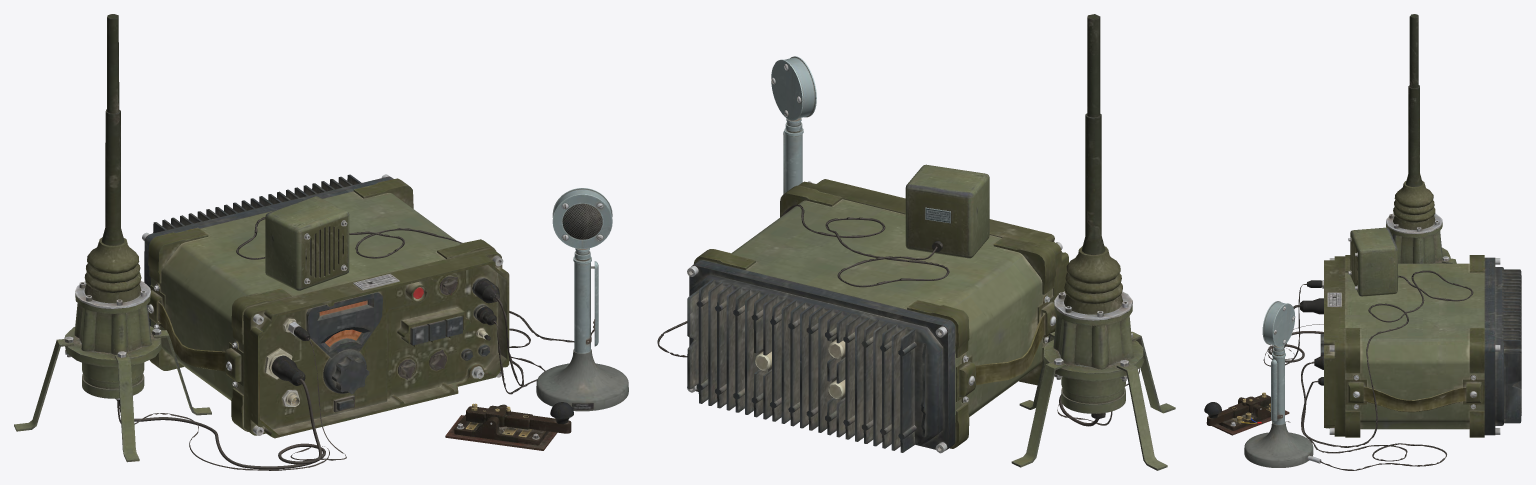
Rendered from dispatch-radio.glb.
The picture shows the model from 3 angles, left to right: view 1: azimuth 30°, elevation 25°; view 2: azimuth 150°, elevation 25°; view 3: azimuth 270°, elevation 25°; orthographic projection. The views are drawn at different scales.
Parts seen in each view (by area): view 1: vintage_radio_transceiver, vintage_radio_transceiver_cable; view 2: vintage_radio_transceiver, vintage_radio_transceiver_cable; view 3: vintage_radio_transceiver, vintage_radio_transceiver_cable.
Part boxes in pixels (left/top/right/bottom): vintage_radio_transceiver: left=142, top=174, right=509, bottom=438; vintage_radio_transceiver_cable: left=14, top=14, right=628, bottom=470; vintage_radio_transceiver: left=687, top=179, right=1068, bottom=453; vintage_radio_transceiver_cable: left=657, top=14, right=1175, bottom=470; vintage_radio_transceiver: left=1320, top=255, right=1521, bottom=437; vintage_radio_transceiver_cable: left=1204, top=14, right=1473, bottom=470.
Size of the model in its own units: 0.574 by 0.4344 by 0.4131.
2 materials, 2 textured.
